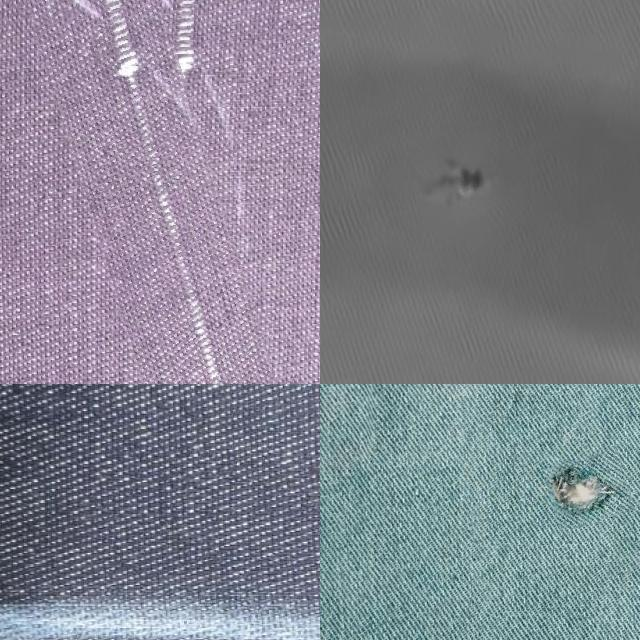other: (414, 124, 524, 242), (544, 452, 630, 528)
stains: (61, 0, 273, 384)
